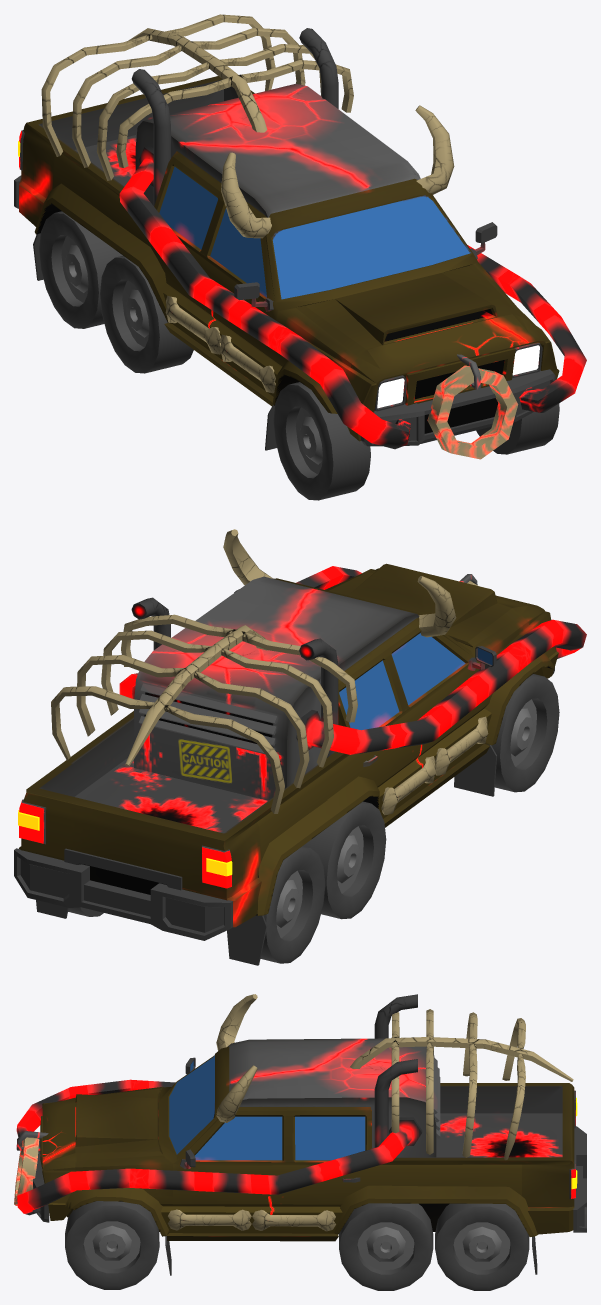
File: Bonecrusher-Mutate.fbx
3 views of the same model, one above another, from view 1: azimuth 30°, elevation 25°; view 2: azimuth 150°, elevation 25°; view 3: azimuth 270°, elevation 25° (orthographic). The views are drawn at different scales.
Parts seen in each view (by area): view 1: Bonecrusher-Mutate, BonecrusherWheel-FR, BonecrusherWheel-BR1, BonecrusherWheel-BR2, BonecrusherWheel-FR.002; view 2: Bonecrusher-Mutate, BonecrusherWheel-BR1, BonecrusherWheel-FR, BonecrusherWheel-BR2; view 3: Bonecrusher-Mutate, BonecrusherWheel-FR.002, BonecrusherWheel-BR1.001, BonecrusherWheel-BR2.001.
Boxes of the visible parts, x1=… form: Bonecrusher-Mutate: x1=14, y1=14, x2=586, y2=459; BonecrusherWheel-FR: x1=273, y1=382, x2=370, y2=500; BonecrusherWheel-BR1: x1=100, y1=255, x2=193, y2=373; BonecrusherWheel-BR2: x1=39, y1=211, x2=122, y2=328; BonecrusherWheel-FR.002: x1=476, y1=403, x2=559, y2=454; Bonecrusher-Mutate: x1=14, y1=529, x2=586, y2=965; BonecrusherWheel-BR1: x1=303, y1=801, x2=386, y2=919; BonecrusherWheel-FR: x1=491, y1=674, x2=559, y2=792; BonecrusherWheel-BR2: x1=260, y1=846, x2=325, y2=963; Bonecrusher-Mutate: x1=14, y1=994, x2=586, y2=1275; BonecrusherWheel-FR.002: x1=65, y1=1201, x2=159, y2=1289; BonecrusherWheel-BR1.001: x1=339, y1=1203, x2=433, y2=1290; BonecrusherWheel-BR2.001: x1=435, y1=1203, x2=529, y2=1290.
Bounding box in the file's own units: 238 × 244 × 577.
